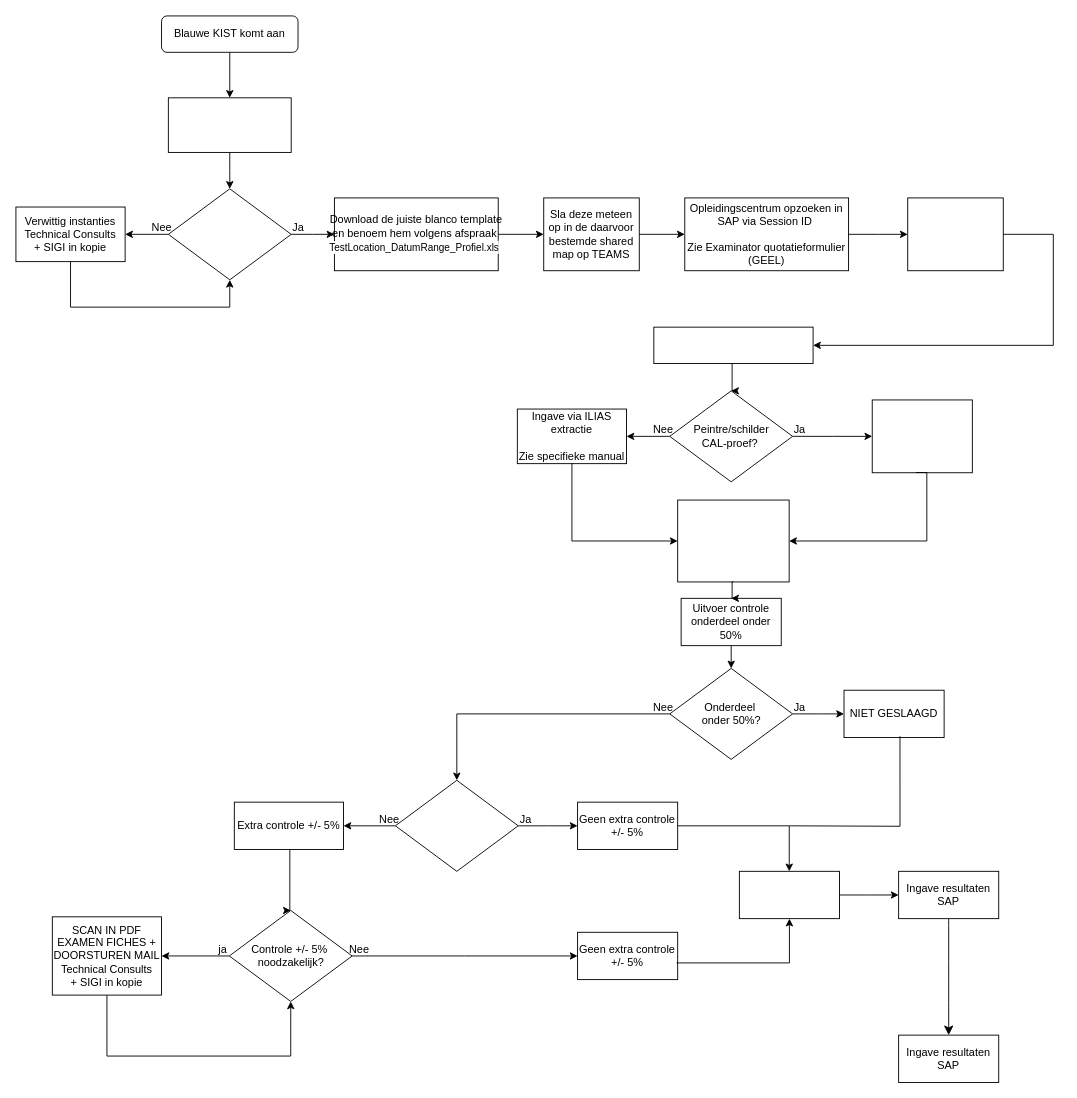
The diagram is 1077 pixels wide and 1098 high, and some of its shapes have lost their labels. The box of each missing label's shape, as (x1, y1, x2, y2) in pixels:
Betreft CAL-proef peintre/tôlier/prep?: (394, 779, 518, 871)
Controleer of het aantal kopies klopt met de deelnemerslijst: (167, 97, 291, 152)
Deelnemers invoegen via Deelnemers TAB: (653, 326, 813, 364)
Ingave Punten via Examinator quotatieformulier (GEEL) Zie specifieke manual: (677, 499, 789, 582)
Ingave via SAP extractie Excel File Sylvie Martel: (871, 399, 972, 473)
Opleidingscentrum ingeven in de shared opvolgfiche op TEAMS: (907, 197, 1003, 271)
Opvolgfiches afdrukken: (738, 870, 839, 919)
Zitten deze er in?: (167, 188, 291, 280)
